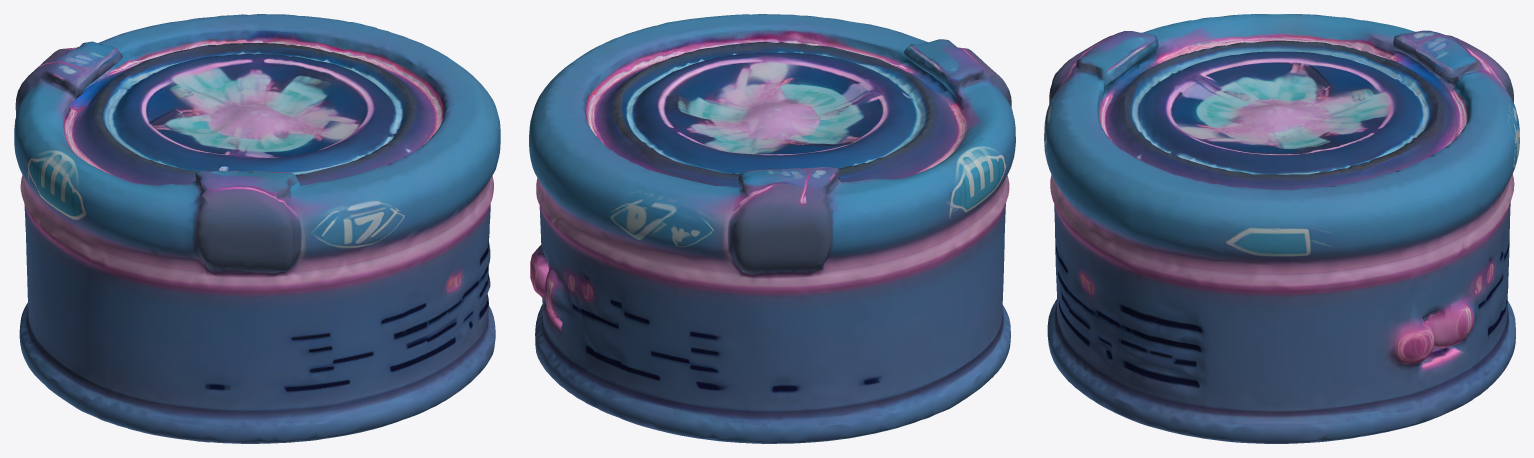
Rendered from hologram_projector.glb.
The picture shows the model from 3 angles, left to right: view 1: azimuth 30°, elevation 25°; view 2: azimuth 150°, elevation 25°; view 3: azimuth 270°, elevation 25°; orthographic projection.
Visible parts, largest first — view 1: tripo_node_174e351e-cba9-4f3e-82a2-e3ec1fffcad6; view 2: tripo_node_174e351e-cba9-4f3e-82a2-e3ec1fffcad6; view 3: tripo_node_174e351e-cba9-4f3e-82a2-e3ec1fffcad6.
Boxes of the visible parts, x1,y1,x2,y2 form: tripo_node_174e351e-cba9-4f3e-82a2-e3ec1fffcad6: [14, 14, 500, 443]; tripo_node_174e351e-cba9-4f3e-82a2-e3ec1fffcad6: [529, 14, 1015, 443]; tripo_node_174e351e-cba9-4f3e-82a2-e3ec1fffcad6: [1044, 14, 1519, 443].
Size of the model in its own units: 1 by 0.5973 by 0.9866.
1 material, 1 textured.
